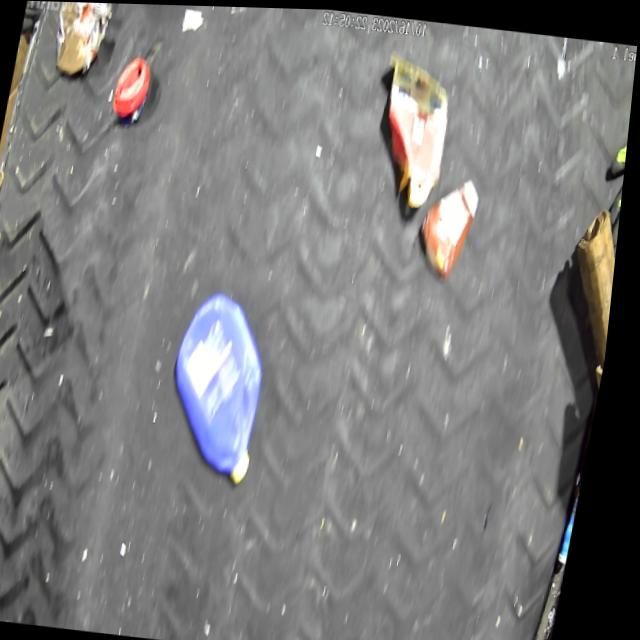non_white_jug: (157, 289, 294, 501)
